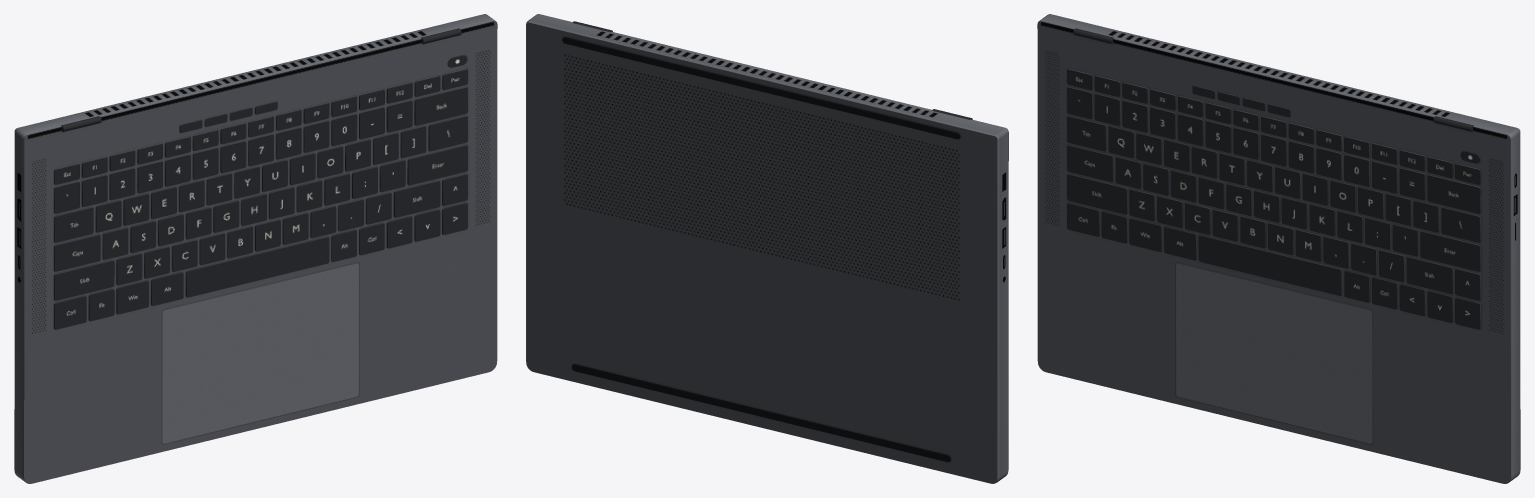
Rendered from body.obj.
3 renders of one model, left to right at view 1: azimuth 30°, elevation 25°; view 2: azimuth 150°, elevation 25°; view 3: azimuth 330°, elevation 25°, orthographic.
Parts seen in each view (by area): view 1: deck, keys, base.002, base.003, hinge; view 2: base.004, base.005, base.002, base.003; view 3: deck, keys, base.002, base.001, hinge.
Part boxes in pixels (x1,y1,x2,y2): deck: [24, 21, 497, 483]; keys: [54, 55, 467, 329]; base.002: [15, 14, 495, 136]; base.003: [14, 129, 25, 482]; hinge: [61, 28, 461, 132]; base.004: [526, 22, 997, 483]; base.005: [562, 37, 960, 462]; base.002: [527, 14, 1007, 137]; base.003: [995, 129, 1008, 482]; deck: [1037, 21, 1510, 483]; keys: [1067, 69, 1480, 329]; base.002: [1039, 14, 1519, 136]; base.001: [1509, 129, 1520, 482]; hinge: [1073, 28, 1473, 132].
Size of the model in its own units: 311 by 220 by 14.8.
8 materials, 6 textured.
